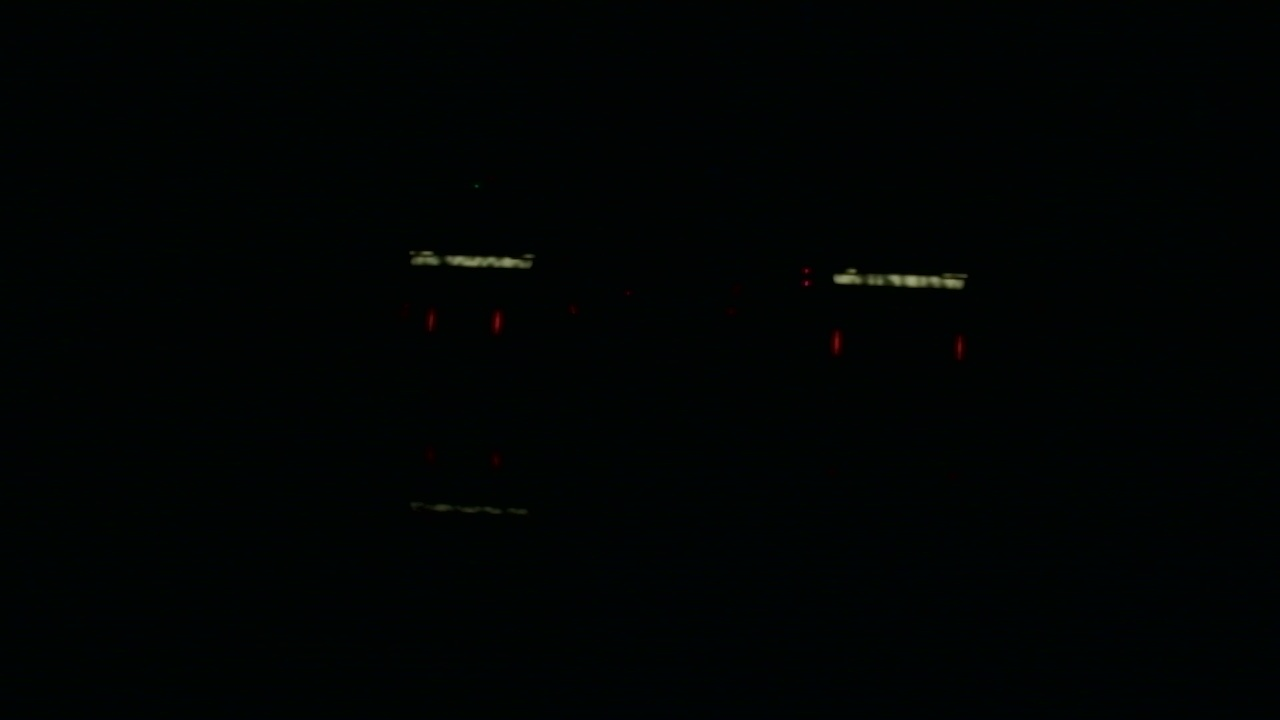lamp: (489, 310, 501, 333), (424, 309, 430, 334), (833, 329, 838, 355), (956, 327, 960, 356)
pair1: (425, 310, 502, 336)
pair2: (833, 330, 963, 357)
